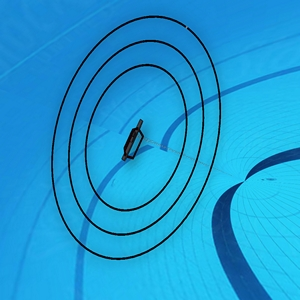circle: (44, 9, 226, 272)
submarine: (119, 115, 151, 160)
